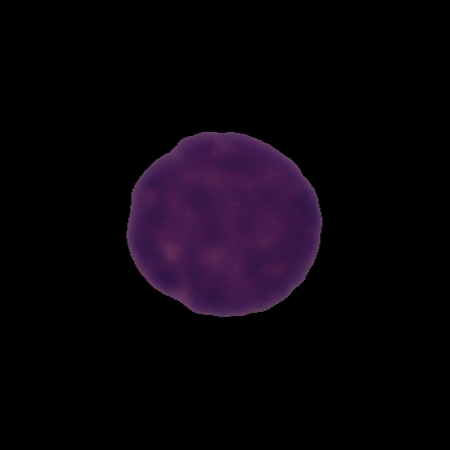HEM: (122, 128, 325, 320)
